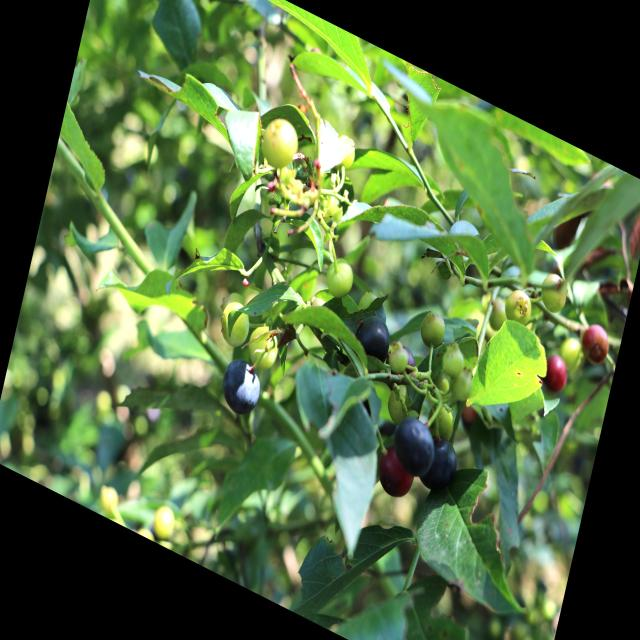blueberry: (390, 411, 440, 482), (417, 428, 463, 500), (217, 354, 264, 421), (351, 306, 394, 378)
blueberry-halfripe: (372, 442, 418, 505), (575, 314, 614, 372), (539, 346, 572, 394)
blueberry-unripe: (257, 110, 302, 176), (534, 266, 573, 324), (216, 298, 253, 353), (321, 251, 358, 305), (246, 320, 281, 374), (502, 284, 536, 332), (383, 379, 414, 429), (417, 307, 449, 353), (429, 399, 456, 441), (450, 366, 477, 406), (441, 342, 467, 381), (387, 338, 413, 376)
